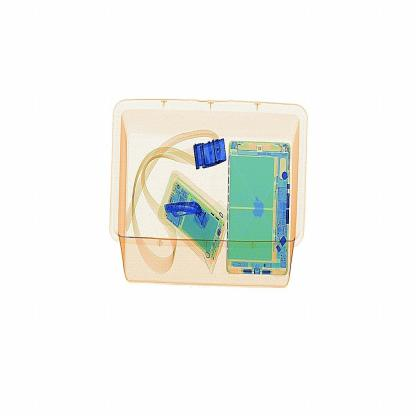knife: (161, 190, 208, 229)
